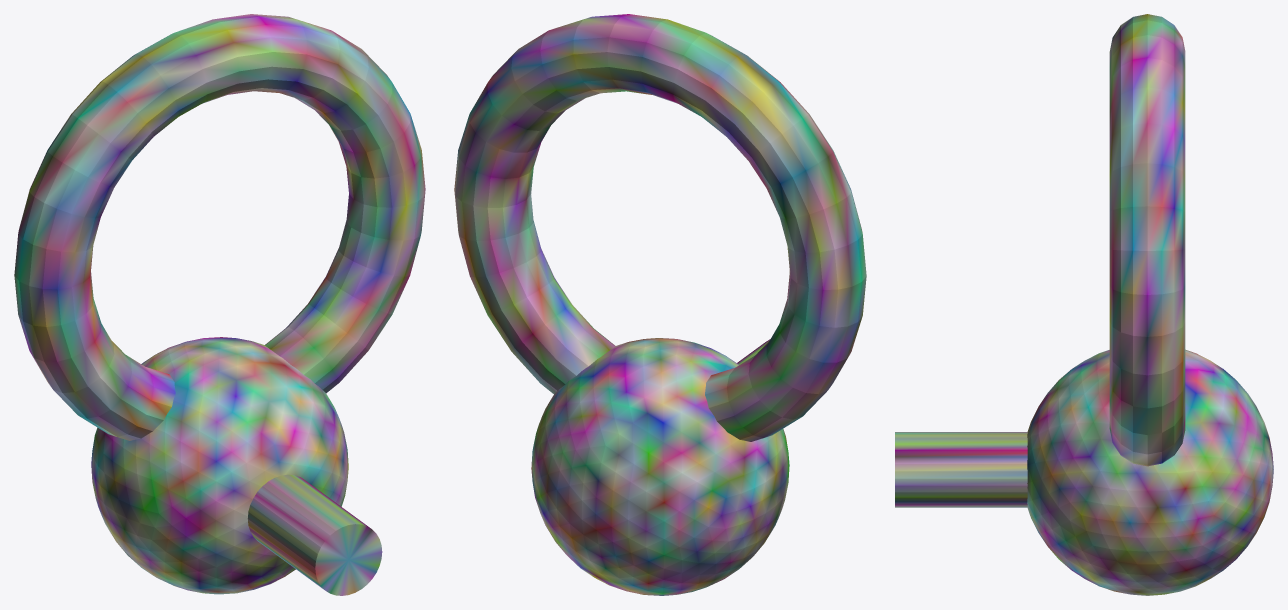
3 views of the same model, side by side, from view 1: azimuth 30°, elevation 25°; view 2: azimuth 150°, elevation 25°; view 3: azimuth 270°, elevation 25° (orthographic). The views are drawn at different scales.
Visible parts, largest first — view 1: world; view 2: world; view 3: world.
Boxes of the visible parts, bbox=[...] form: world: bbox=[14, 14, 425, 595]; world: bbox=[454, 14, 866, 595]; world: bbox=[895, 14, 1273, 595].
Bounding box in the file's own units: 3.6 × 4.8 × 3.
